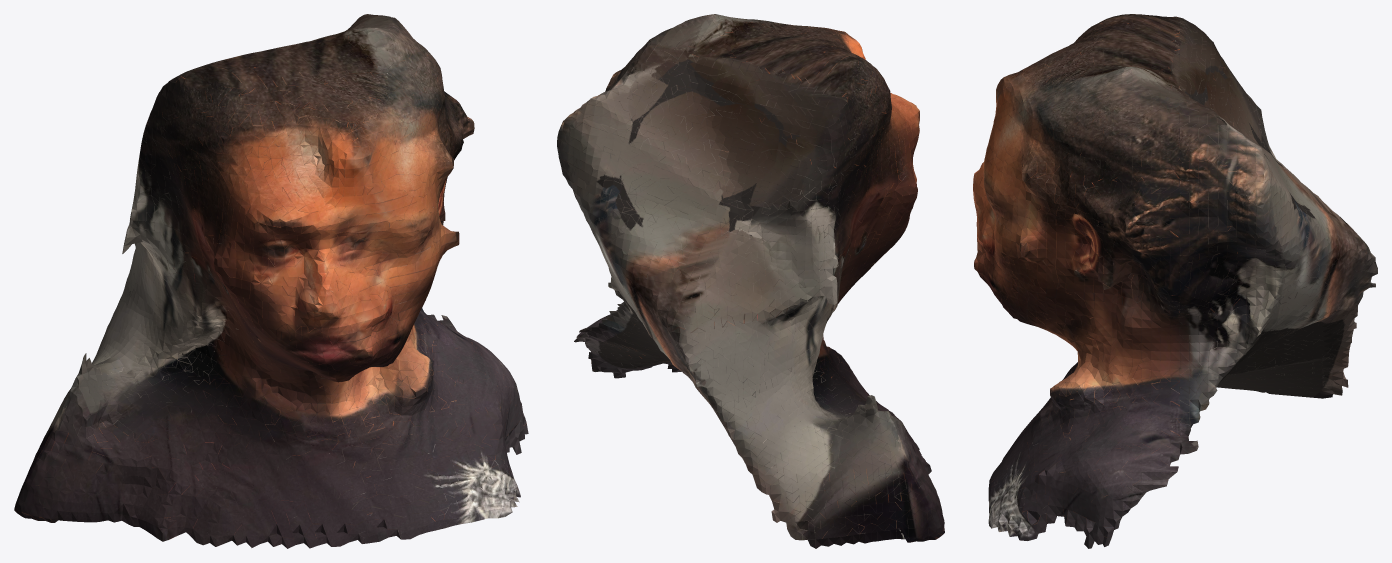
File: head.glb
The picture shows the model from 3 angles, left to right: view 1: azimuth 30°, elevation 25°; view 2: azimuth 150°, elevation 25°; view 3: azimuth 270°, elevation 25°; orthographic projection. The views are drawn at different scales.
Bounding box in the file's own units: 0.8448 × 0.8231 × 0.699.
Materials: 1 (1 with a texture image).
